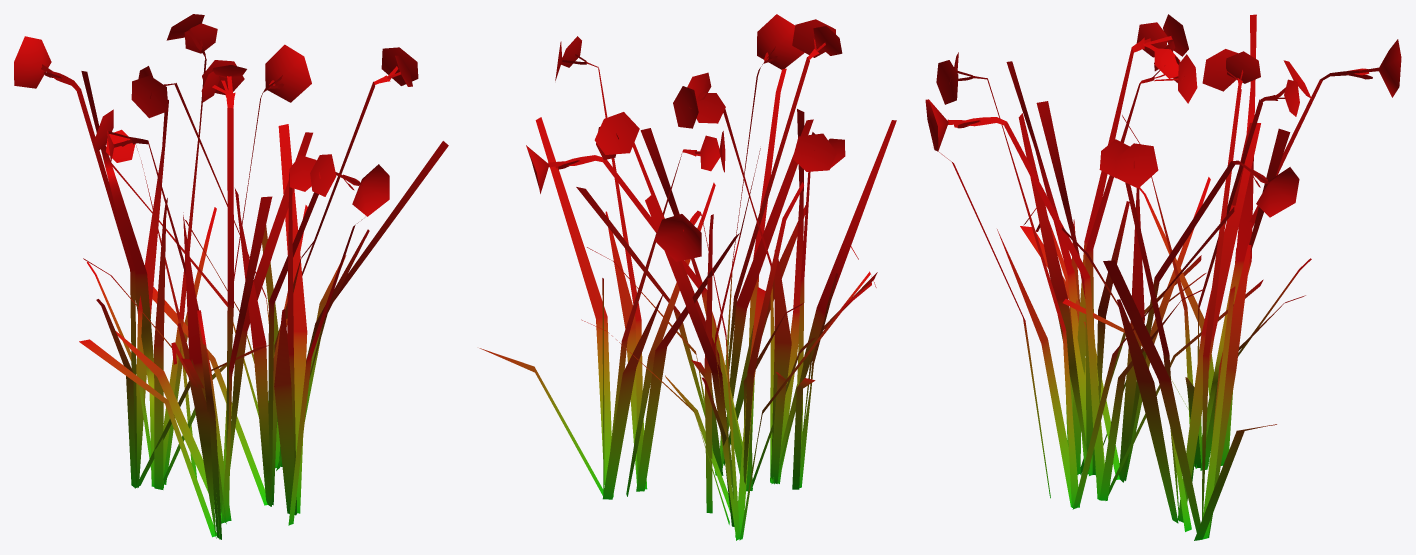
Rendered from Rush Daffodil_LOD6_Var3_wftgfjaia.fbx.
3 views of the same model, side by side, from view 1: azimuth 30°, elevation 25°; view 2: azimuth 150°, elevation 25°; view 3: azimuth 270°, elevation 25° (orthographic). The views are drawn at different scales.
Parts seen in each view (by area): view 1: _hpxb_var3_LOD6; view 2: _hpxb_var3_LOD6; view 3: _hpxb_var3_LOD6.
Part boxes in pixels (x1,y1,x2,y2): _hpxb_var3_LOD6: (14, 14, 448, 539); _hpxb_var3_LOD6: (479, 14, 896, 540); _hpxb_var3_LOD6: (925, 14, 1401, 540).
Size of the model in its own units: 29.73 by 35.91 by 34.23.
